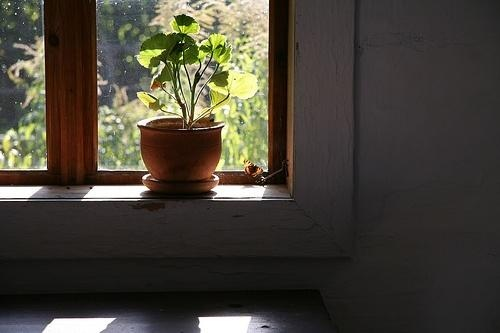pottedplant: (134, 14, 258, 195)
